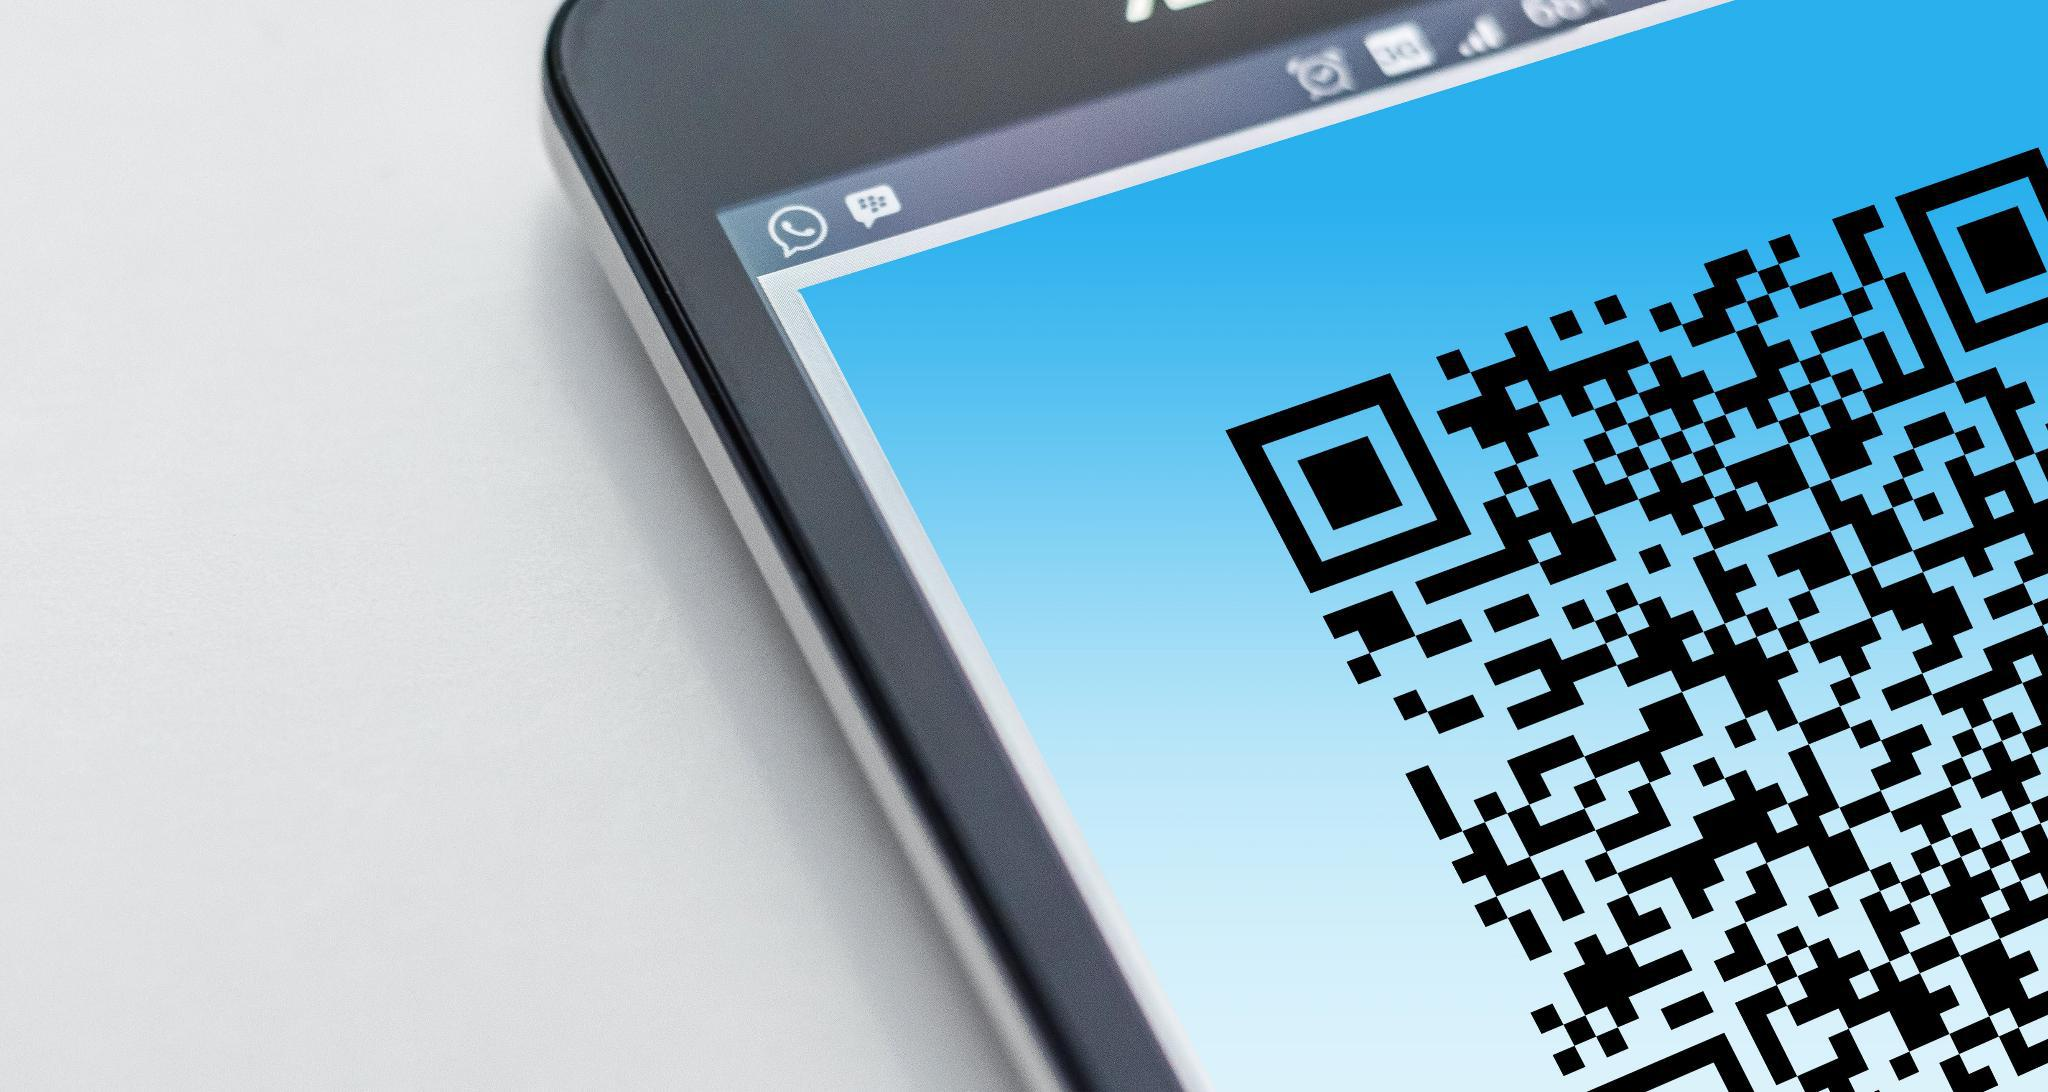Finder pattern: (1216, 364, 1480, 606), (1894, 142, 2048, 363)
